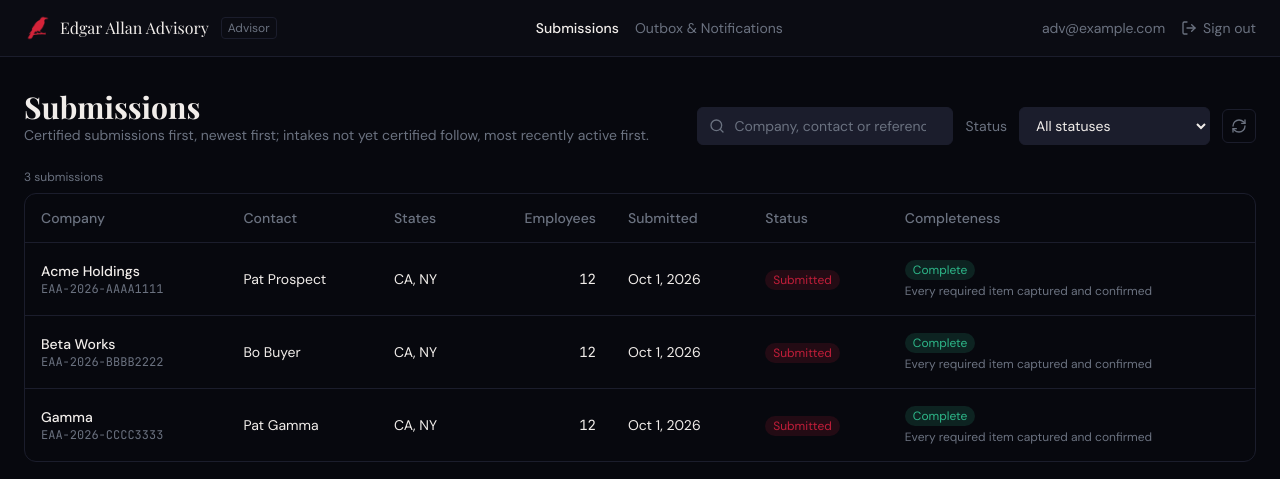
Test: AdvisorDashboardPage › search › explains a search that finds nothing, and clears it
Expected: the link "Acme Holdings" is shown, [41,262,140,280]
Type "zzz" into the search field named "Search" at (825, 126), box [697,107,953,145]
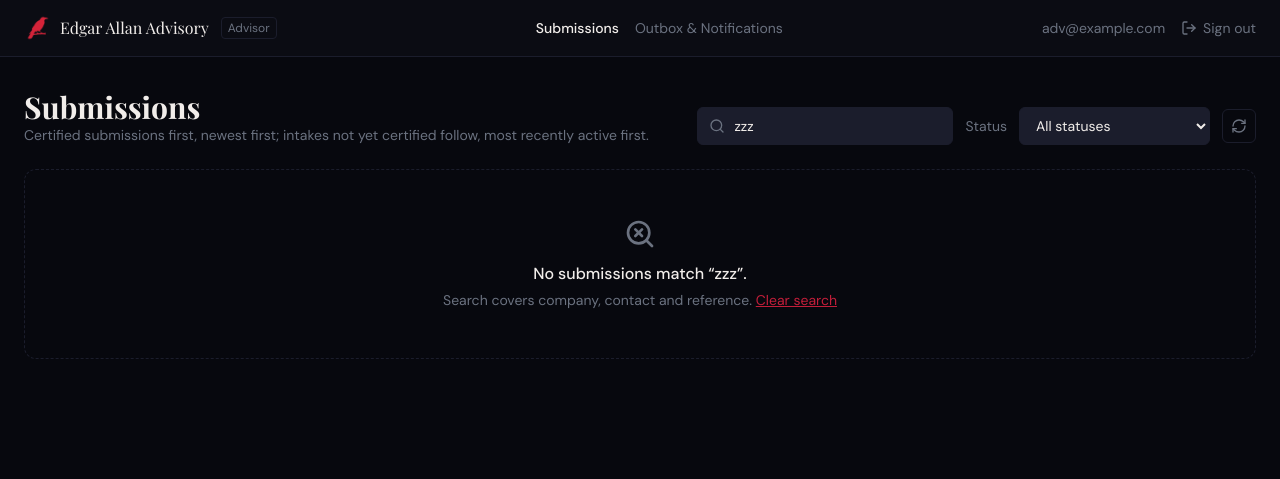
Expected: the text "No submissions match “zzz”." is shown, [533,263,747,284]
Click the button "Clear search" at (796, 300), box [756,290,837,310]
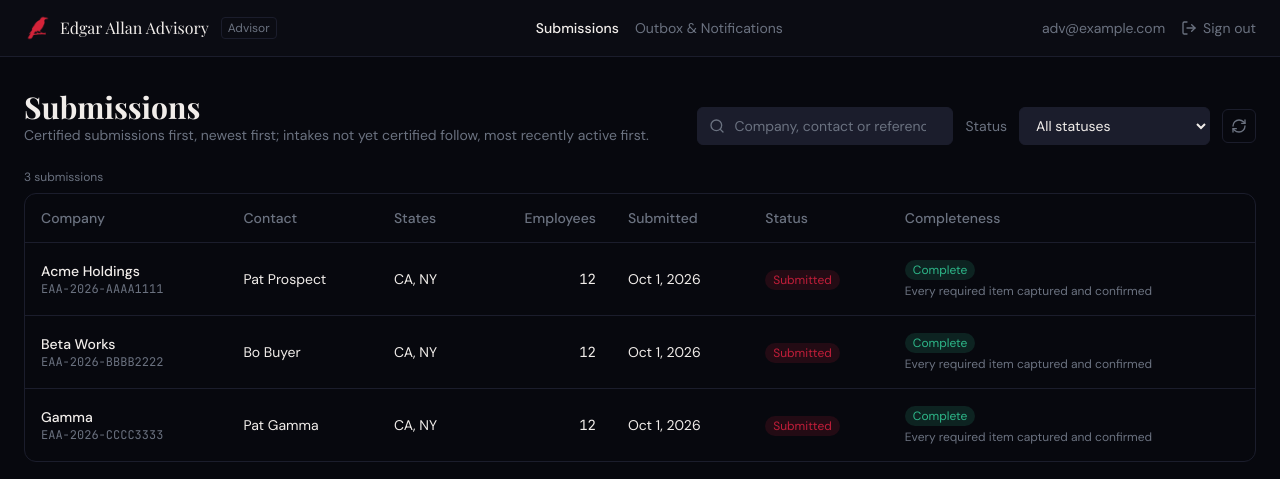
Expected: the search field named "Search" is empty, [697,107,953,145]
